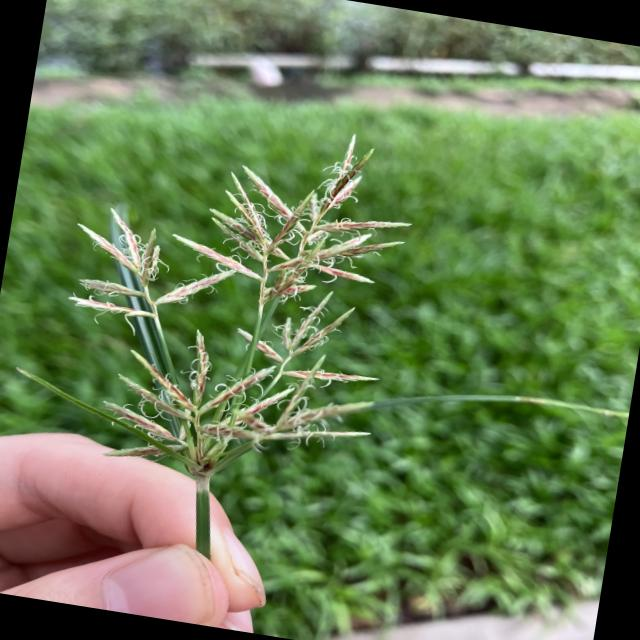cyperus: (24, 86, 434, 516)
